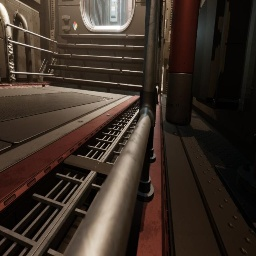NitrogenTank ,: (165, 0, 202, 126)
SafetySwitchPanel ,: (110, 0, 118, 22)
